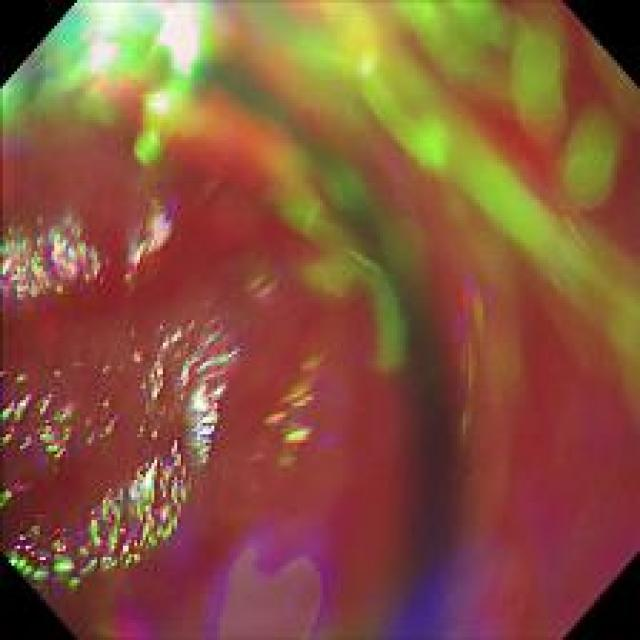color misalignment: (9, 39, 632, 198), (81, 442, 192, 579), (436, 256, 511, 458), (139, 312, 232, 459), (252, 339, 338, 484), (215, 535, 332, 639), (4, 209, 106, 308), (4, 362, 75, 460), (0, 515, 84, 590), (128, 205, 184, 292), (81, 389, 119, 442), (239, 265, 280, 308), (0, 469, 31, 511), (101, 350, 136, 376)
